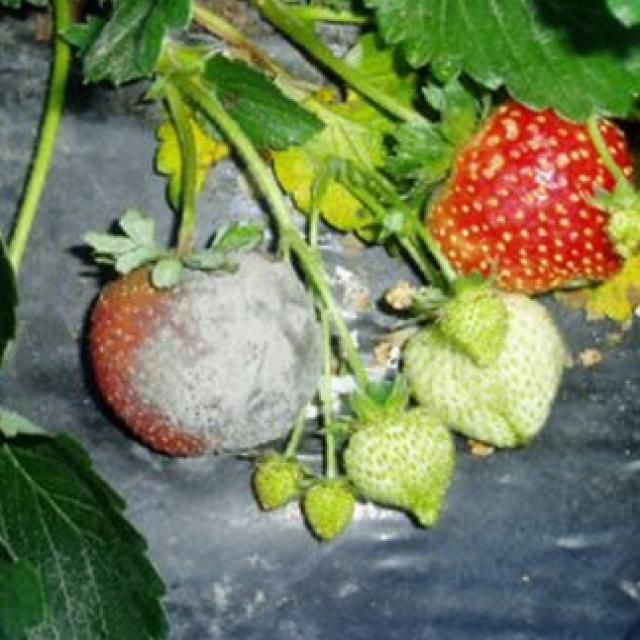Gray Mold: (87, 241, 325, 455)
